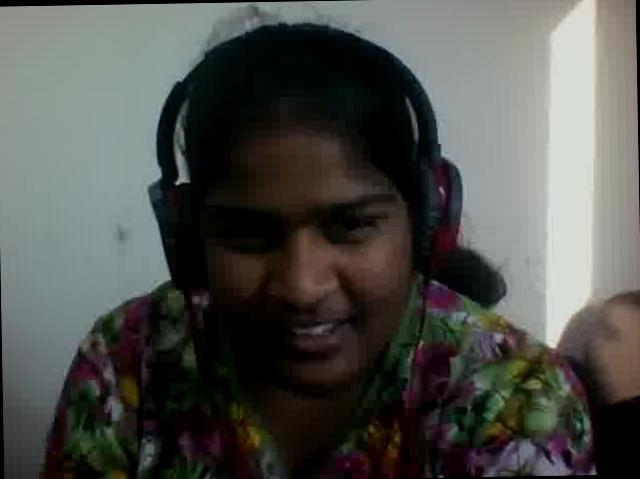bingung: (182, 122, 403, 400)
